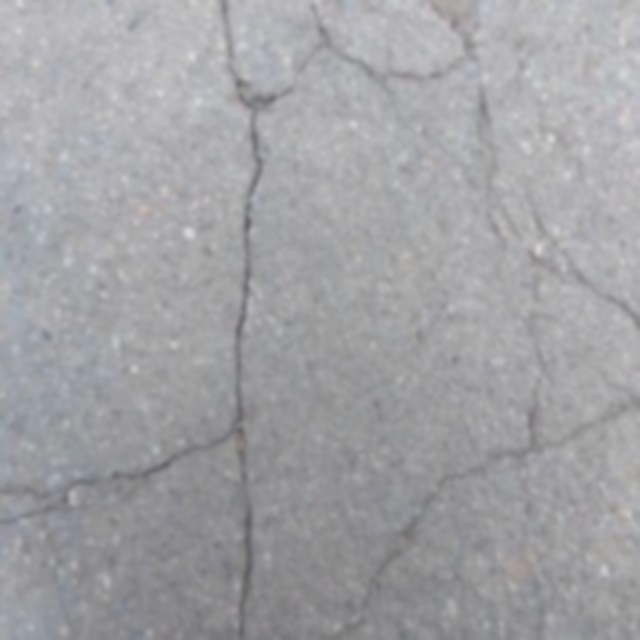SurfaceCrack: (180, 0, 296, 640)
